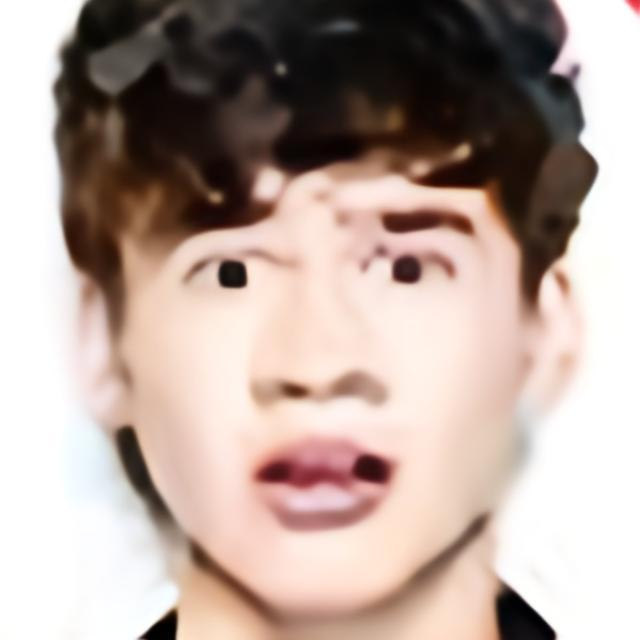fear: (116, 64, 529, 617)
